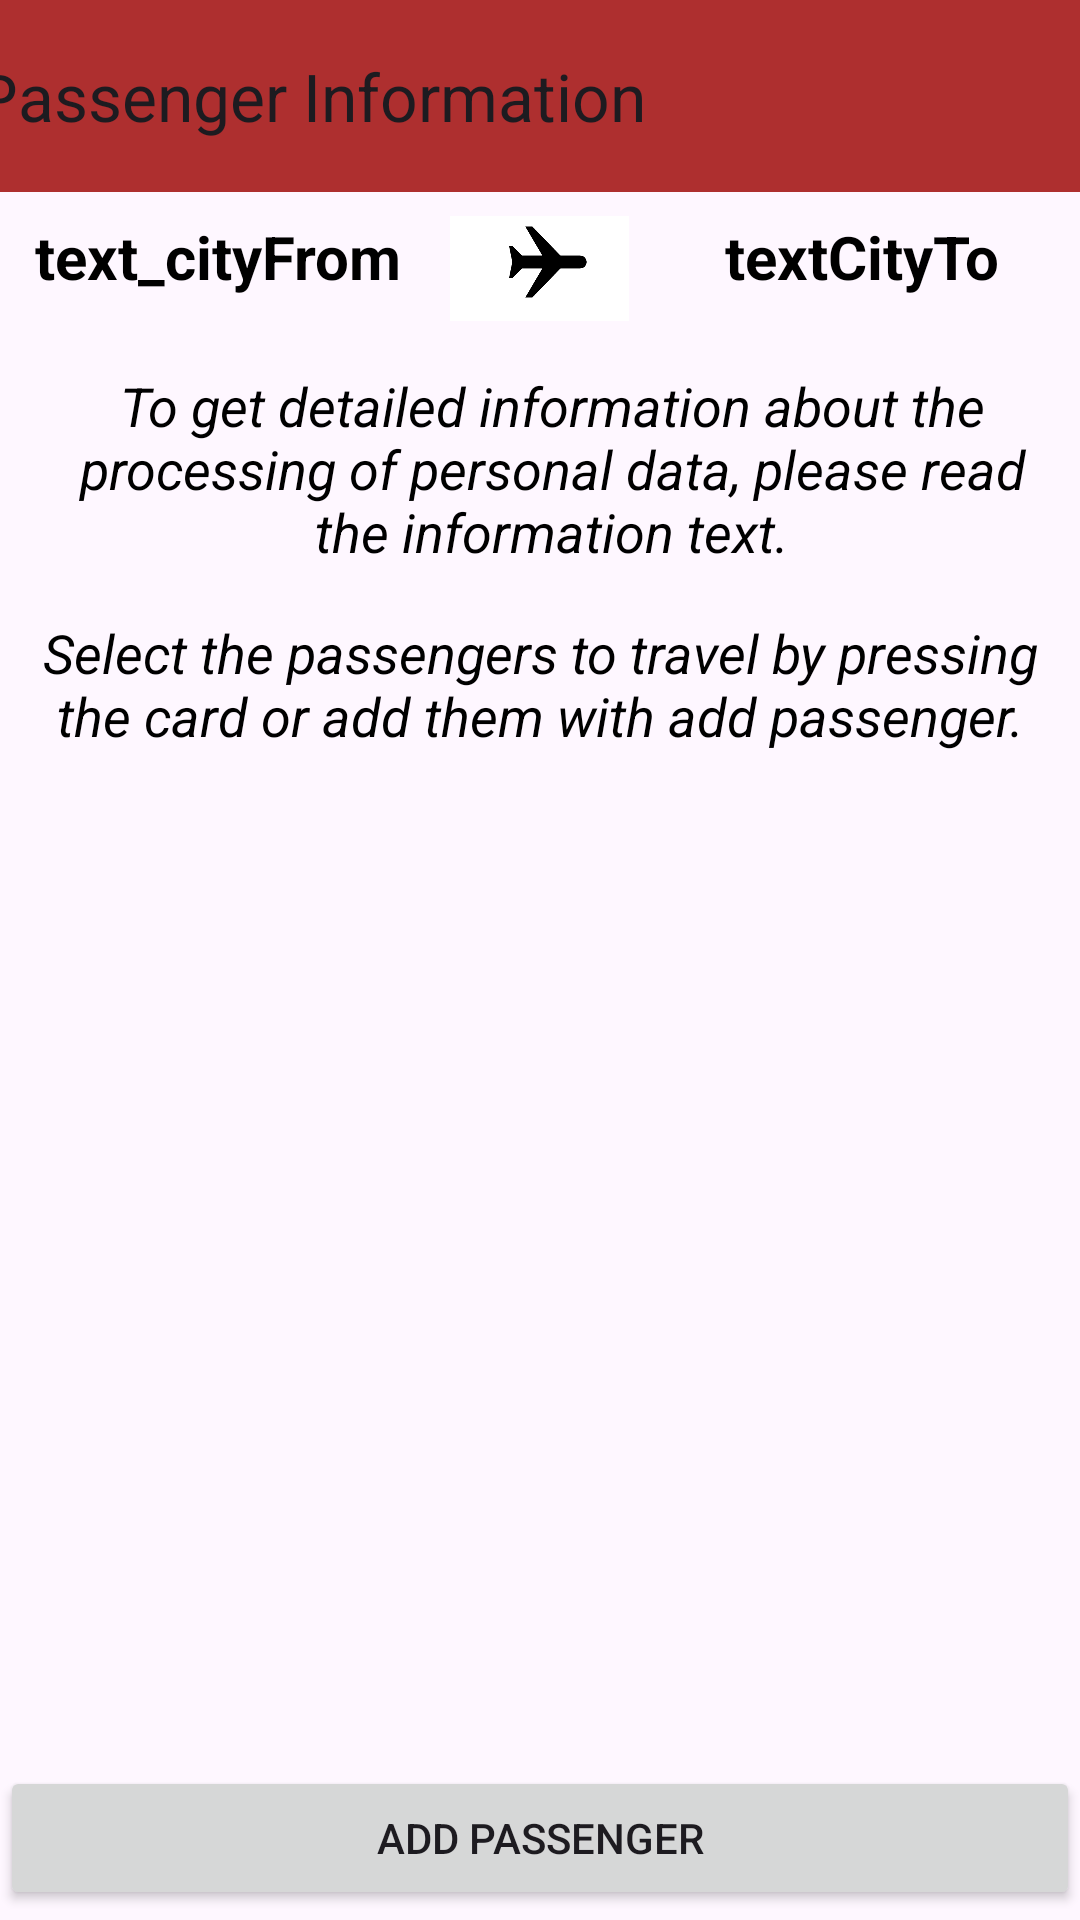

Named icons in this screenshot (1080×1920) and their bounding boxes, [x1,y1,x2,y2]:
plane: [509,226,587,298]
